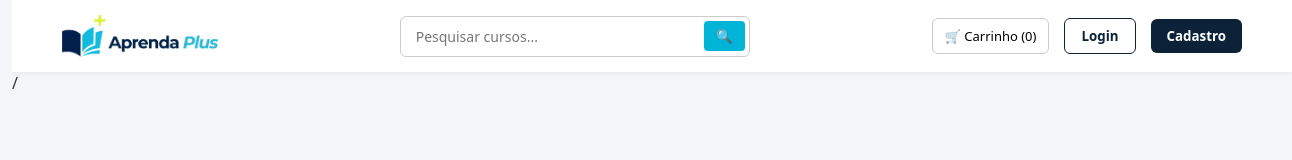
it: Header: busca com sugestões › avisa quando nenhum curso combina
This screenshot has width=1292, height=160.
Type "culinária" into the field with placeholder "Pesquisar cursos...". click: (575, 36)
box: x1=400 y1=16 x2=750 y2=56
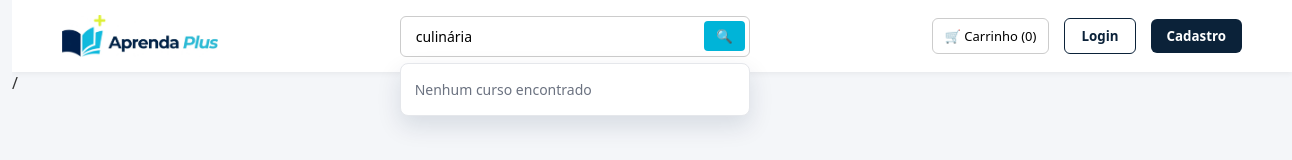
Now the list item "Nenhum curso encontrado" is shown, box x1=415 y1=80 x2=592 y2=98
